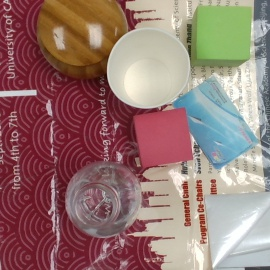bottle: (65, 163, 144, 239)
card: (174, 77, 259, 166)
chess: (37, 1, 128, 79)
cup: (108, 28, 190, 109)
